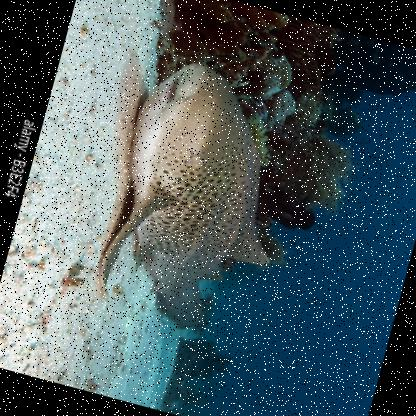zebra_shark: (69, 35, 327, 356)
